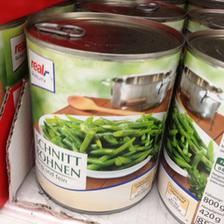Bohnen: (24, 10, 184, 220), (158, 28, 222, 224)
